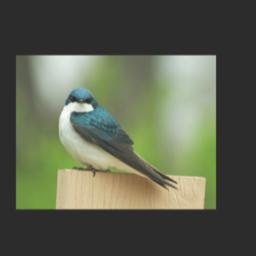Swallow: (57, 87, 181, 191)
